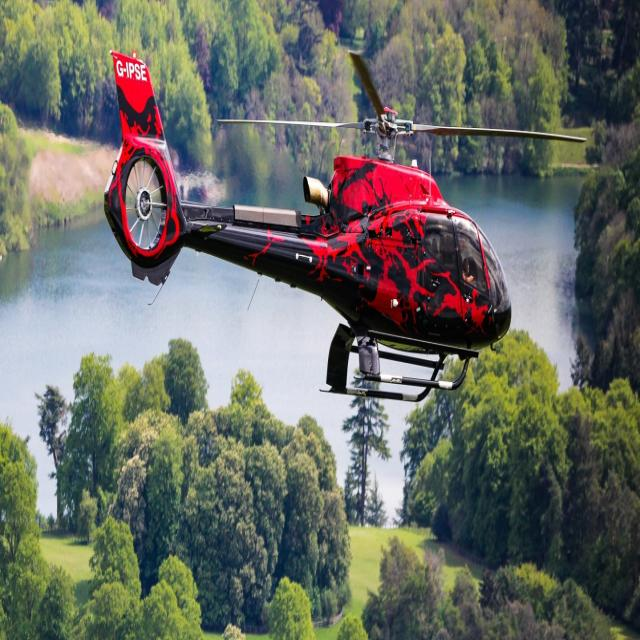helicopter: (104, 24, 592, 421)
